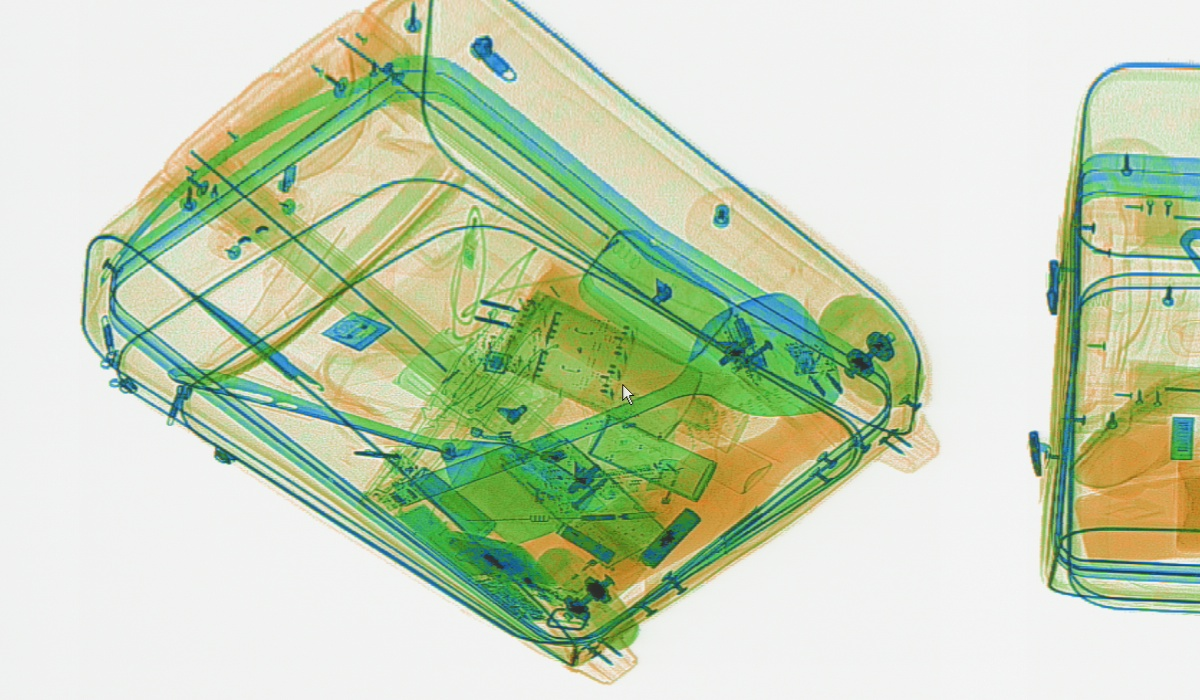lighter: (550, 513, 638, 596)
zippooil: (576, 414, 720, 502)
